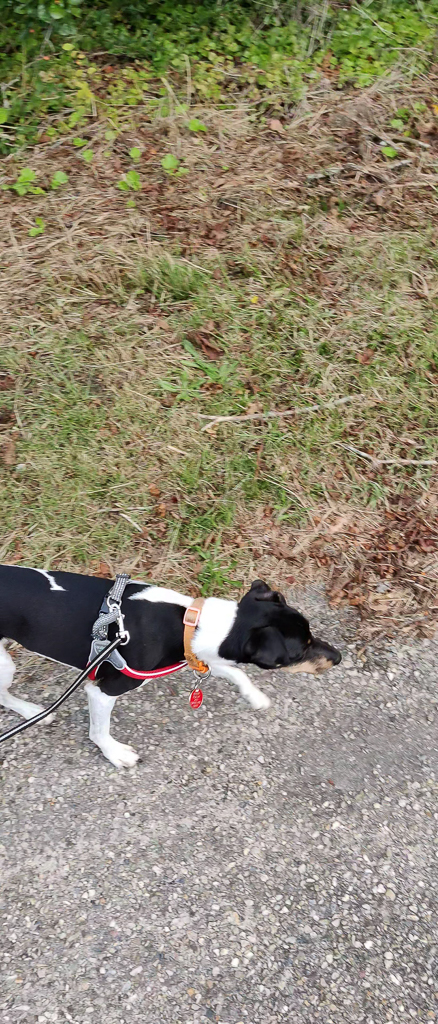Dog: (0, 551, 354, 779)
